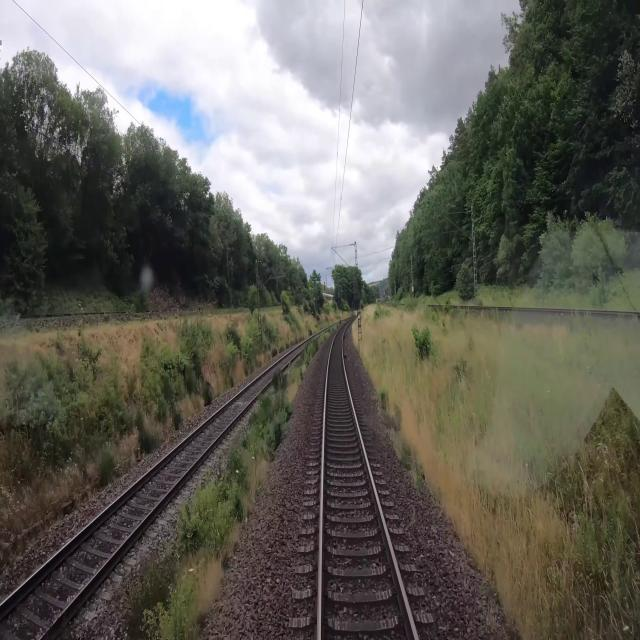Plant: (125, 331, 332, 639)
